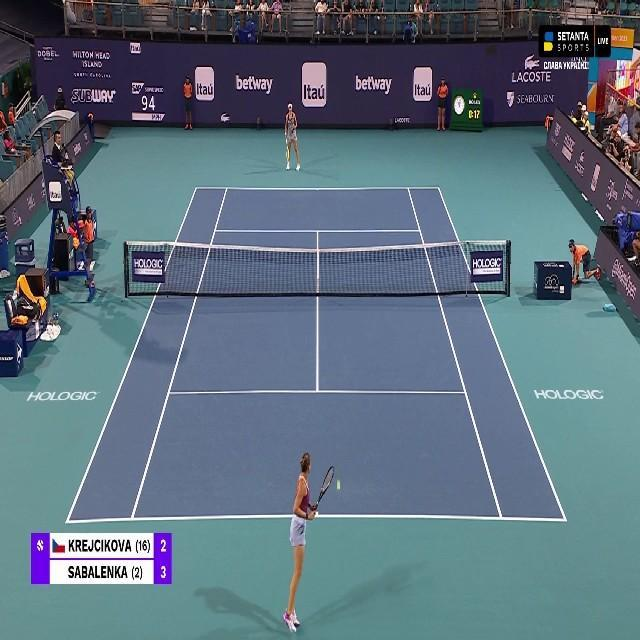left side: (66, 188, 227, 522), (408, 188, 566, 521)
player: (282, 452, 334, 636), (284, 102, 302, 172)
